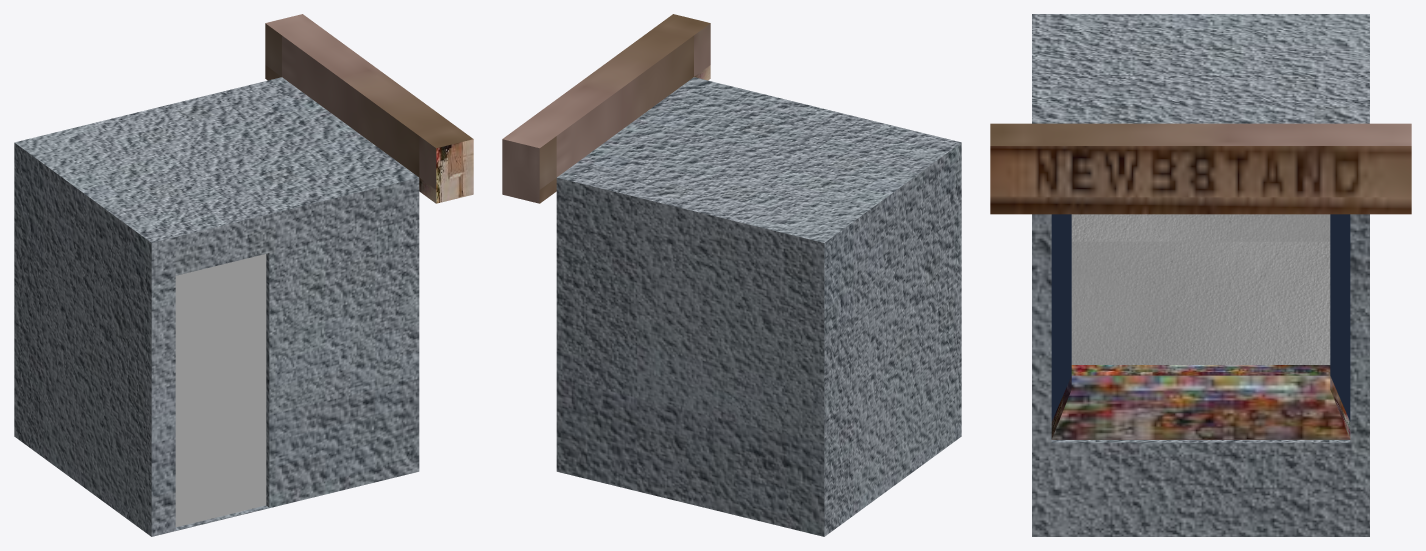
The model's file is newstand.fbx.
3 renders of one model, left to right at view 1: azimuth 30°, elevation 25°; view 2: azimuth 150°, elevation 25°; view 3: azimuth 270°, elevation 25°, orthographic. The views are drawn at different scales.
Parts seen in each view (by area): view 1: Cube; view 2: Cube; view 3: Cube.
Boxes of the visible parts, x1,y1,x2,y2 form: Cube: (14, 14, 473, 536); Cube: (502, 14, 961, 536); Cube: (990, 14, 1411, 536).
Size of the model in its own units: 2115 by 2223 by 2052.
